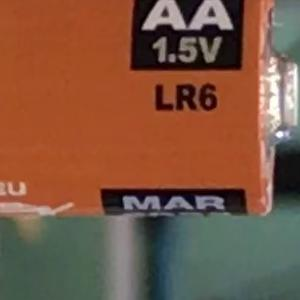keyword: (144, 73, 228, 122)
